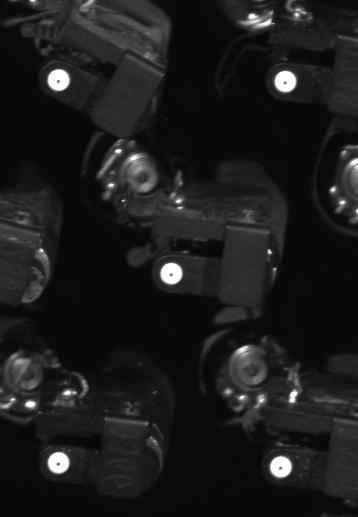fiber: (267, 64, 302, 96), (265, 452, 296, 484), (44, 62, 74, 95), (42, 449, 74, 477), (158, 259, 187, 289)
